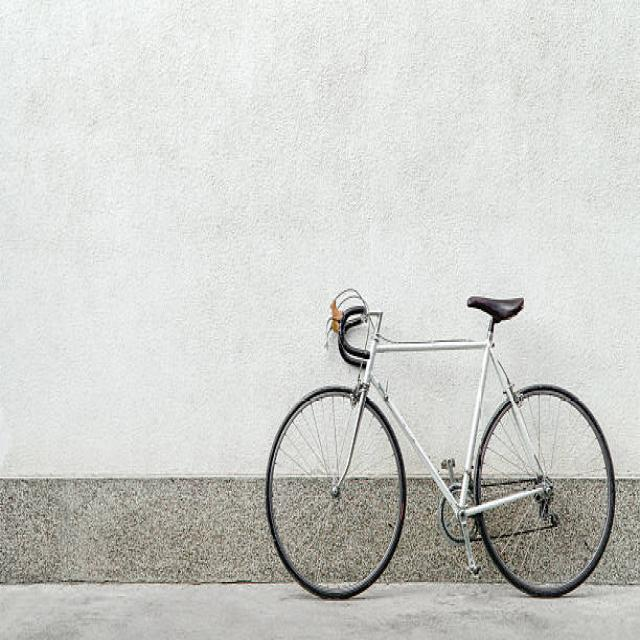bicycle: (266, 289, 615, 598)
